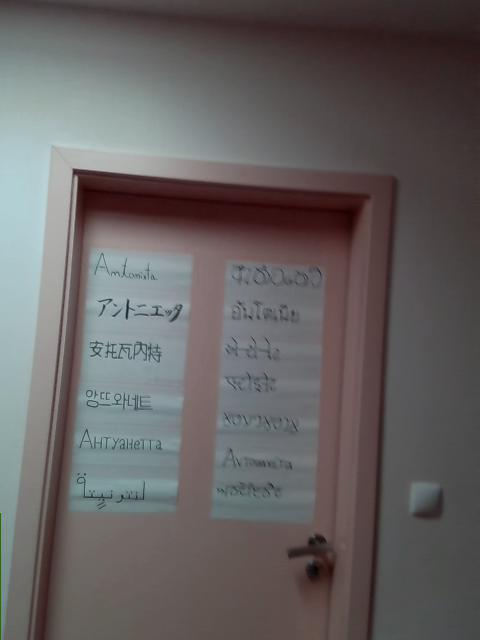closed_door: (1, 144, 394, 638)
